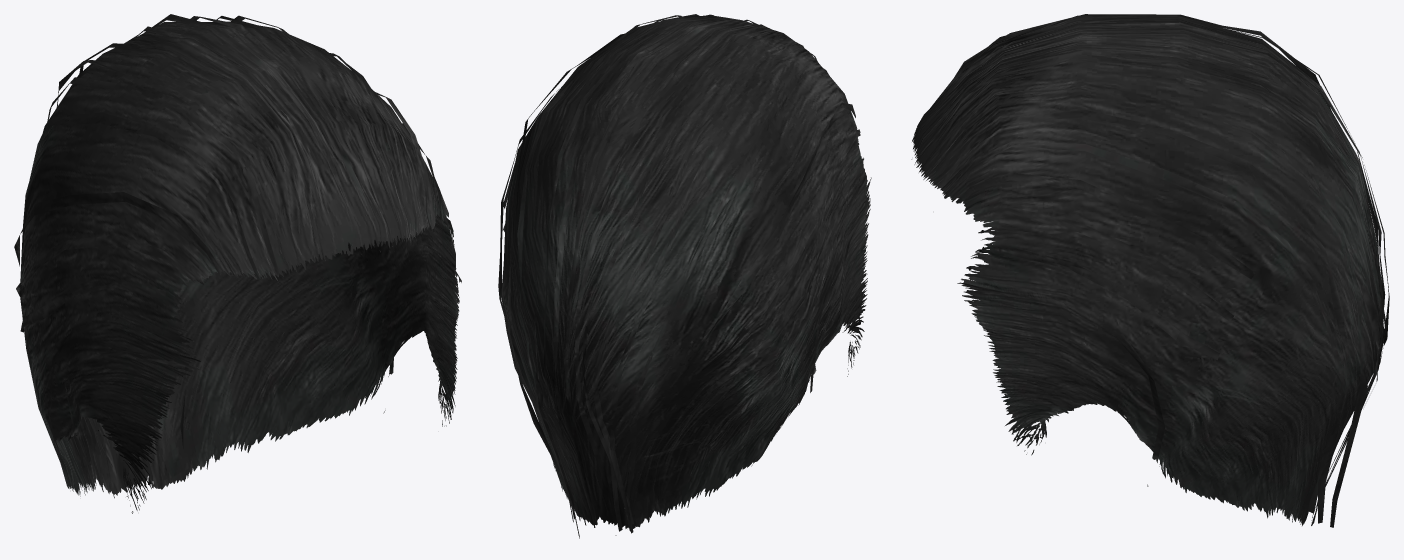
Rendered from male.glb.
3 renders of one model, left to right at view 1: azimuth 30°, elevation 25°; view 2: azimuth 150°, elevation 25°; view 3: azimuth 270°, elevation 25°, orthographic. The views are drawn at different scales.
Parts seen in each view (by area): view 1: short04; view 2: short04; view 3: short04.
Boxes of the visible parts, x1=… form: short04: x1=14, y1=14, x2=461, y2=513; short04: x1=498, y1=14, x2=871, y2=538; short04: x1=911, y1=14, x2=1389, y2=527.
Bounding box in the file's own units: 0.1559 × 0.2268 × 0.1986.
Materials: 1 (1 with a texture image).
